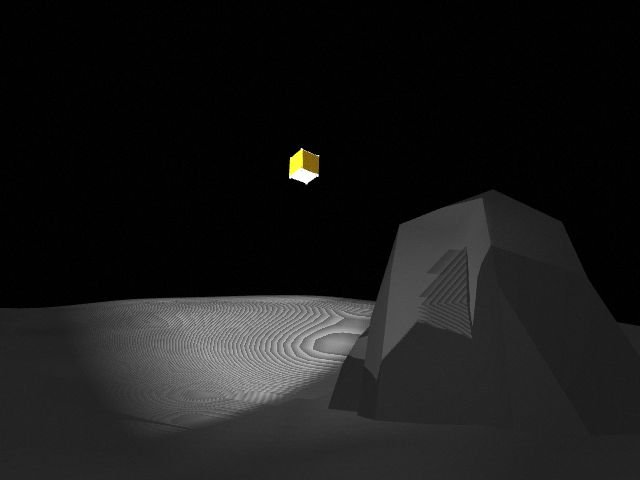cubesat: (285, 145, 323, 189)
